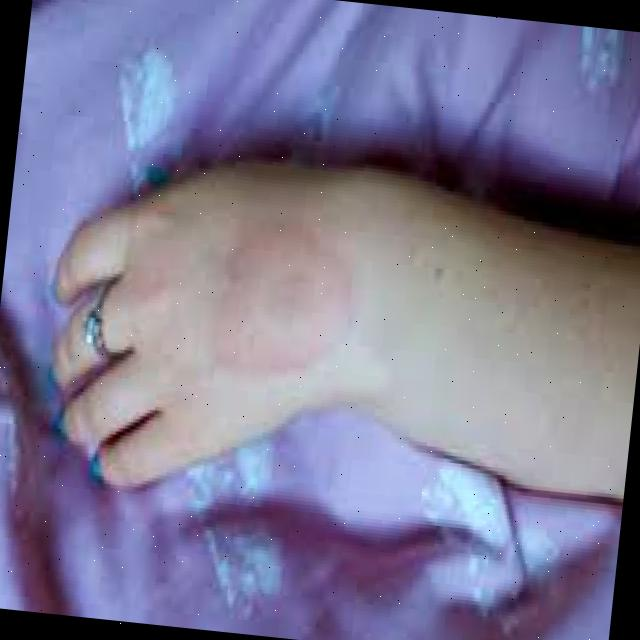kene: (200, 215, 373, 403)
